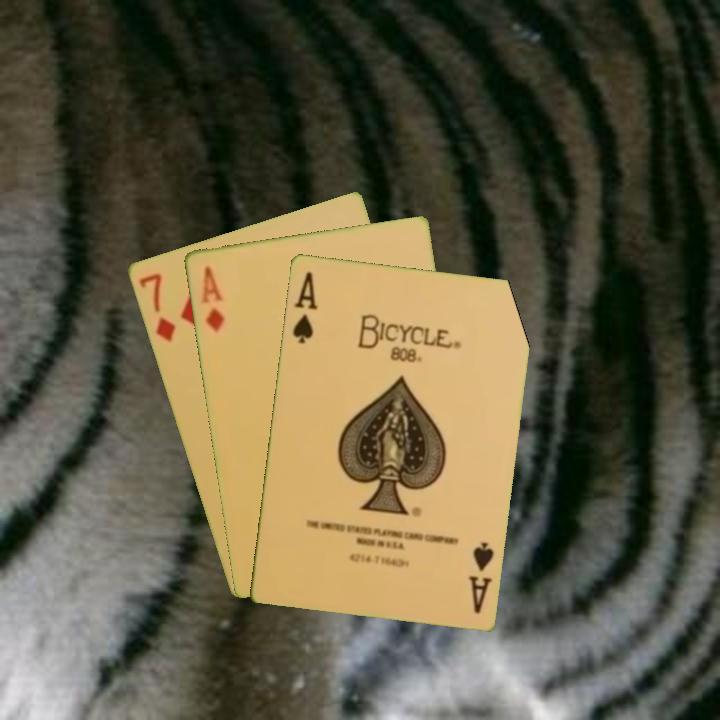7d: (134, 269, 178, 345)
Ad: (197, 262, 227, 336)
As: (465, 538, 496, 617), (289, 268, 319, 346)
